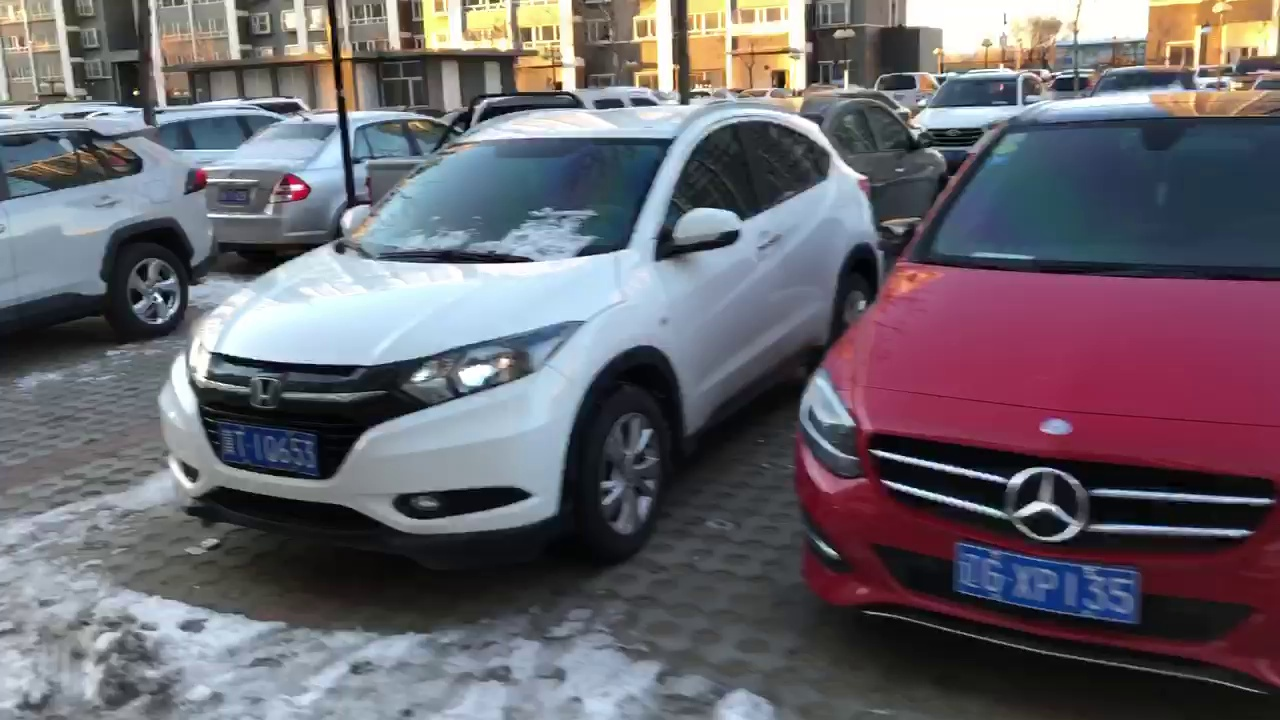plate: (957, 547, 1140, 612), (217, 431, 320, 472)
